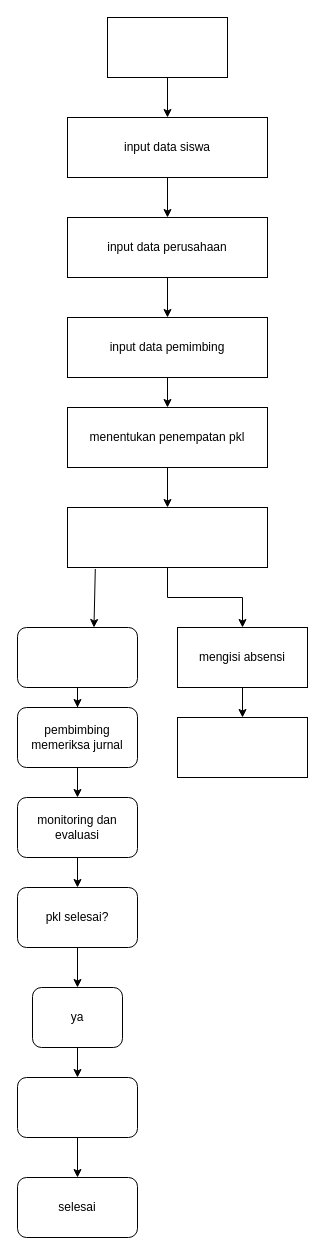
Image size: 325x1255. Some labels were removed from this diagram. The shapes that lost their labels are listed below. From the top down, each one's centre as x and y in pixels, then its label:
the point at 167,47: mulai
the point at 167,537: siswa melaksanakan pkl
the point at 77,657: mengisi jurnal harian
the point at 242,747: pembimbing memeriksa kehadiran
the point at 77,1107: menyusun hasil monitoring
